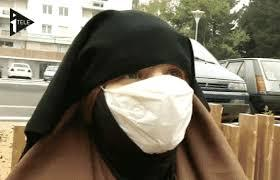Wearing Mask: (61, 0, 232, 180)
